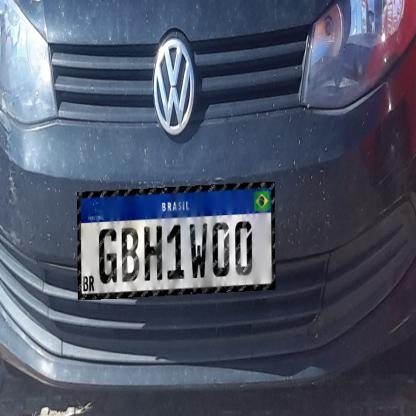PlacaM: (77, 182, 276, 300)
